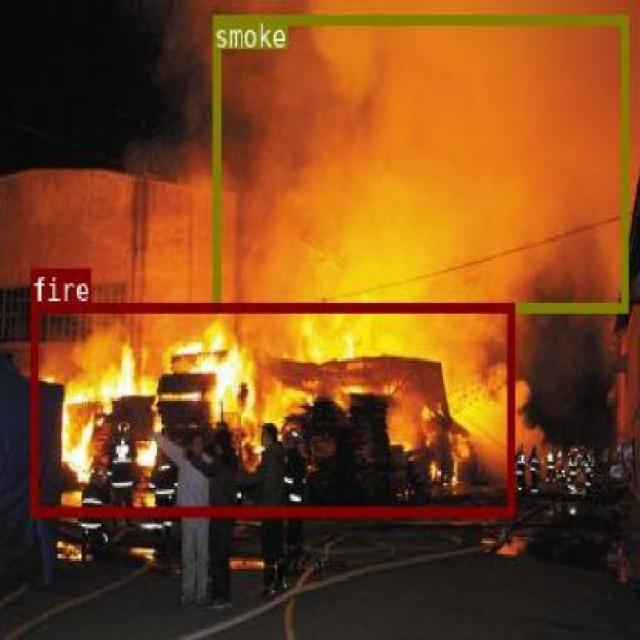Fire: (29, 302, 514, 513)
Smoke: (211, 13, 627, 312)
